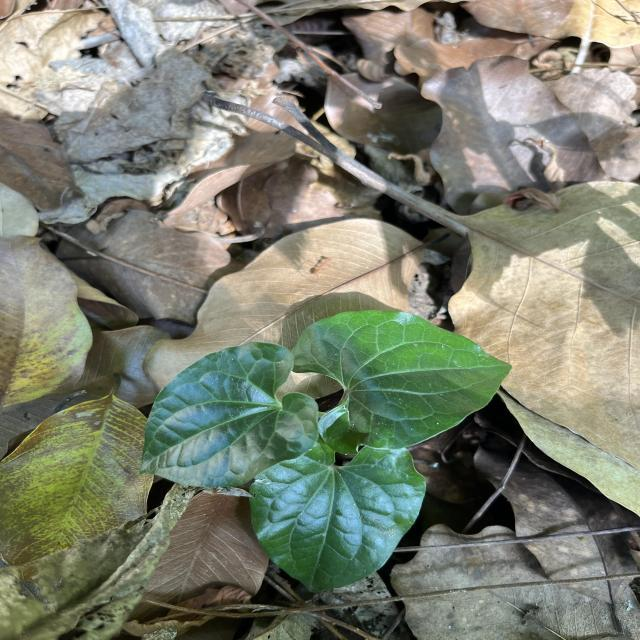Piper longum: (286, 308, 514, 460), (136, 340, 322, 490), (246, 446, 429, 594)
